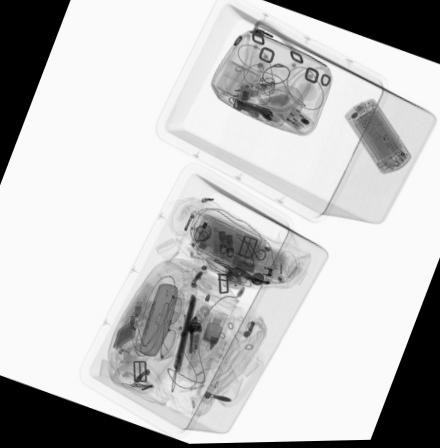Lighter: (272, 106, 305, 132)
